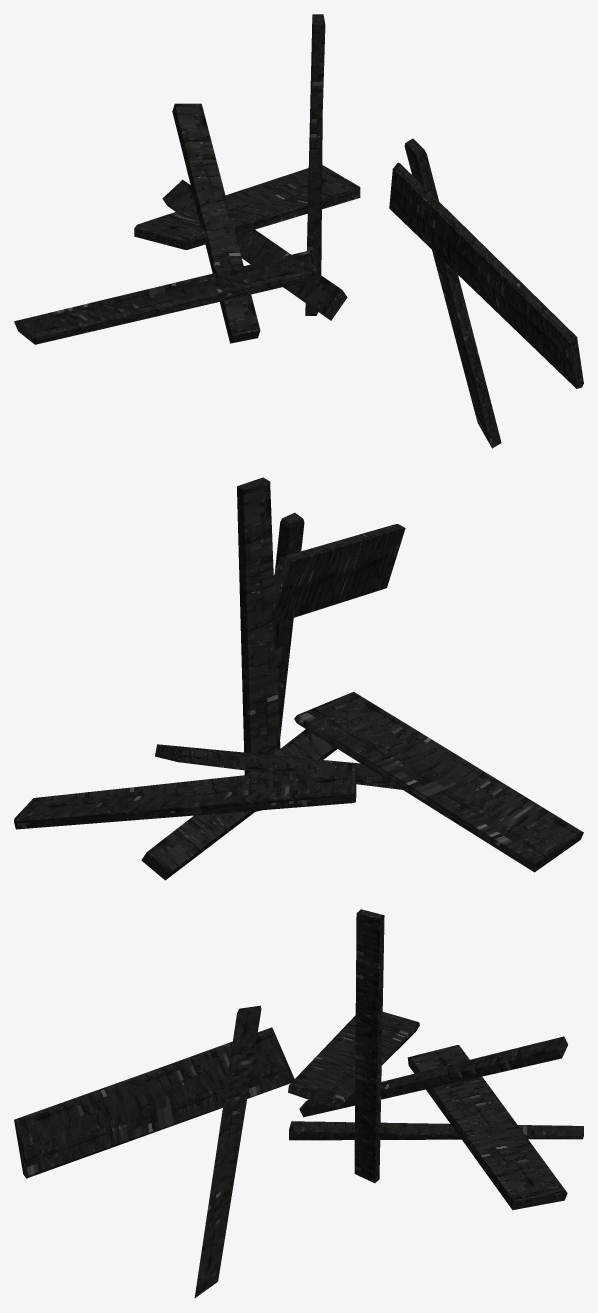
Rendered from 1_BURNT_01_9-transformed.glb.
3 views of the same model, one above another, from view 1: azimuth 30°, elevation 25°; view 2: azimuth 150°, elevation 25°; view 3: azimuth 270°, elevation 25° (orthographic). The views are drawn at different scales.
Parts seen in each view (by area): view 1: default; view 2: default; view 3: default.
Part boxes in pixels (<box>): default: <box>14,14,583,448</box>; default: <box>14,477,583,880</box>; default: <box>14,909,583,1298</box>.
Bounding box in the file's own units: 2.18 × 1.92 × 2.85.
1 material, 1 textured.
